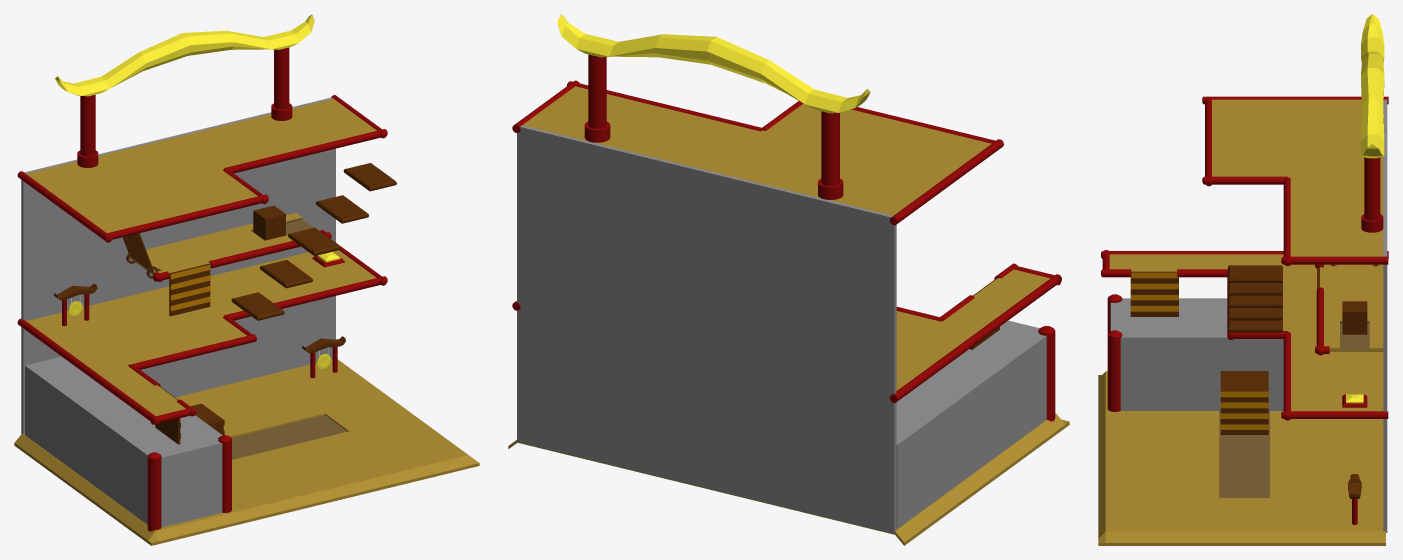
Rendered from temple_assembly-2.fbx.
3 views of the same model, side by side, from view 1: azimuth 30°, elevation 25°; view 2: azimuth 150°, elevation 25°; view 3: azimuth 270°, elevation 25° (orthographic). The views are drawn at different scales.
Parts seen in each view (by area): view 1: Cube, Cube.001, Cube.018, Cube.002, Cube.005, Cube.020, Cube.007, Cube.008, Cylinder.008, Cylinder.028, Cylinder.027, Cylinder.020 (+14 smaller); view 2: Cube.001, Cube.018, Cube.002, Cube.020, Cube.005, Cube, Cylinder.008, Cylinder.021, Cylinder.020, Cylinder.025, Cylinder.005, Cylinder.027; view 3: Cube, Cube.018, Cube.002, Cube.005, Cube.007, Cube.020, Cube.003, Cube.004, Cube.001, Cylinder.021, Cylinder.004, Cube.017 (+16 smaller).
Boxes of the visible parts, left/top/right/bottom form: Cube: left=14, top=359, right=479, bottom=545; Cube.001: left=21, top=97, right=335, bottom=434; Cube.018: left=26, top=99, right=376, bottom=233; Cube.002: left=25, top=356, right=222, bottom=527; Cube.005: left=26, top=250, right=376, bottom=416; Cube.020: left=55, top=14, right=314, bottom=96; Cube.007: left=129, top=213, right=319, bottom=274; Cube.008: left=169, top=263, right=210, bottom=316; Cylinder.008: left=17, top=318, right=160, bottom=425; Cylinder.028: left=106, top=194, right=268, bottom=239; Cylinder.027: left=224, top=129, right=387, bottom=173; Cylinder.020: left=77, top=94, right=98, bottom=167; Cube.001: left=517, top=125, right=896, bottom=533; Cube.018: left=522, top=86, right=991, bottom=215; Cube.002: left=896, top=320, right=1046, bottom=528; Cube.020: left=557, top=14, right=870, bottom=113; Cube.005: left=896, top=269, right=1050, bottom=390; Cube: left=508, top=413, right=1069, bottom=545; Cylinder.008: left=890, top=274, right=1061, bottom=402; Cylinder.021: left=584, top=54, right=610, bottom=142; Cylinder.020: left=818, top=111, right=843, bottom=199; Cylinder.025: left=889, top=139, right=1003, bottom=225; Cylinder.005: left=1038, top=326, right=1055, bottom=421; Cylinder.027: left=567, top=81, right=762, bottom=131; Cube: left=1098, top=371, right=1385, bottom=545; Cube.018: left=1212, top=99, right=1383, bottom=256; Cube.002: left=1110, top=298, right=1283, bottom=412; Cube.005: left=1109, top=254, right=1383, bottom=411; Cube.007: left=1320, top=264, right=1383, bottom=351; Cube.020: left=1361, top=14, right=1384, bottom=158; Cube.003: left=1220, top=371, right=1268, bottom=434; Cube.004: left=1130, top=272, right=1178, bottom=316; Cube.001: left=1383, top=99, right=1387, bottom=532; Cylinder.021: left=1361, top=157, right=1383, bottom=232; Cylinder.004: left=1107, top=330, right=1122, bottom=411; Cube.017: left=1228, top=265, right=1282, bottom=282.
Bounding box in the file's own units: 3366 × 3681 × 2456.
